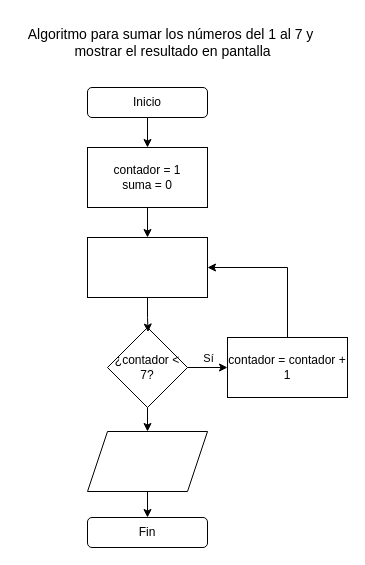
The diagram is 365 pixels wide and 565 high, and some of its shapes have lost their labels. The centre of each missing label's shape, as x and y in pixels:
"escribir suma" belongs at point (147, 461).
"suma = suma + contador" belongs at point (147, 267).
